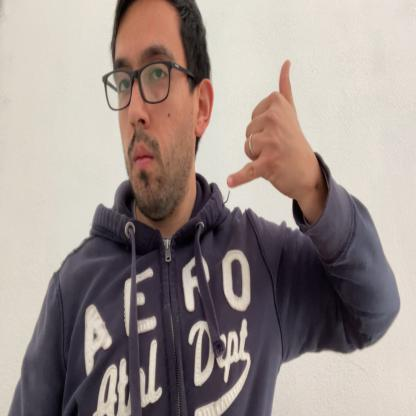Y: (227, 60, 321, 206)
